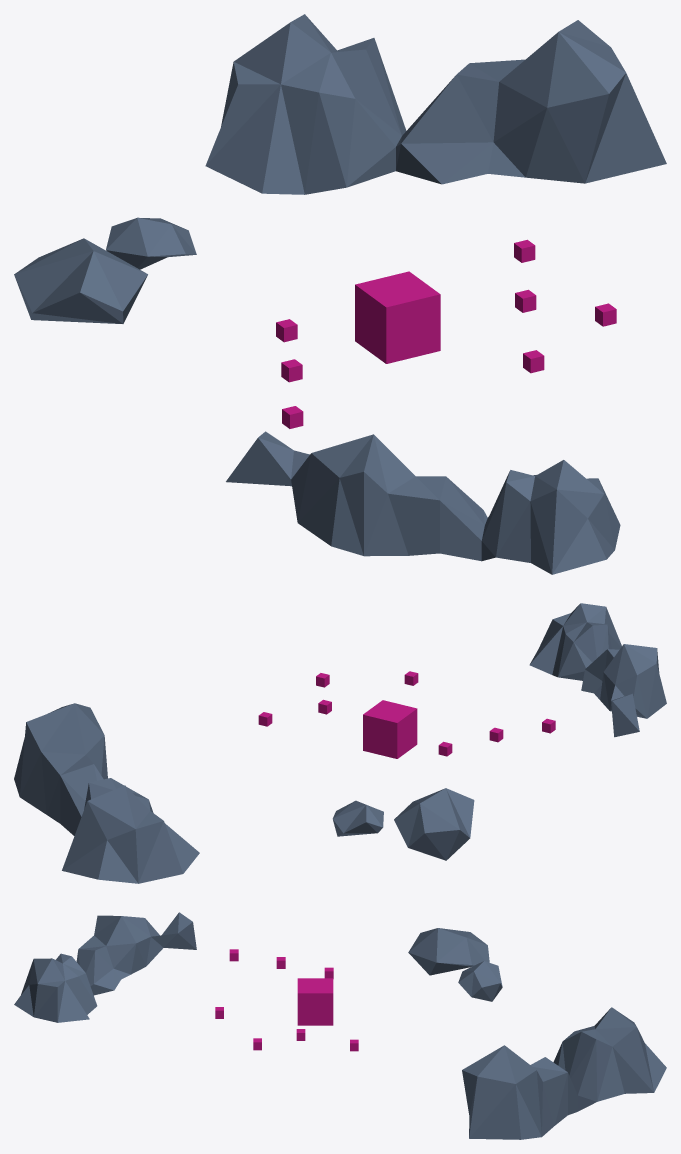
Rendered from webScene.dae.
The picture shows the model from 3 angles, top to bottom: view 1: azimuth 30°, elevation 25°; view 2: azimuth 150°, elevation 25°; view 3: azimuth 270°, elevation 25°; orthographic projection. The views are drawn at different scales.
Parts seen in each view (by area): view 1: Cube_001, Cube_002, Cube, Cube_004, Cube_003; view 2: Cube_001, Cube_002, Cube, Cube_004, Cube_003; view 3: Cube_001, Cube_002, Cube, Cube_004, Cube_003.
Boxes of the visible parts, x1,y1,x2,y2 form: Cube_001: [205, 14, 666, 194]; Cube_002: [226, 431, 620, 574]; Cube: [14, 238, 147, 323]; Cube_004: [355, 271, 440, 363]; Cube_003: [106, 217, 196, 269]; Cube_001: [14, 703, 199, 883]; Cube_002: [529, 603, 666, 737]; Cube: [394, 788, 474, 860]; Cube_004: [363, 700, 417, 758]; Cube_003: [332, 800, 383, 836]; Cube_001: [462, 1007, 666, 1139]; Cube_002: [14, 912, 196, 1022]; Cube: [408, 928, 489, 975]; Cube_004: [297, 978, 333, 1025]; Cube_003: [458, 961, 502, 1001].
Bounding box in the file's own units: 25.49 × 36.89 × 5.63.
